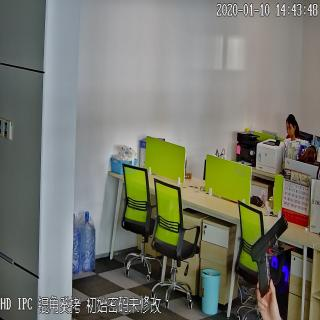gun: (247, 211, 296, 320)
